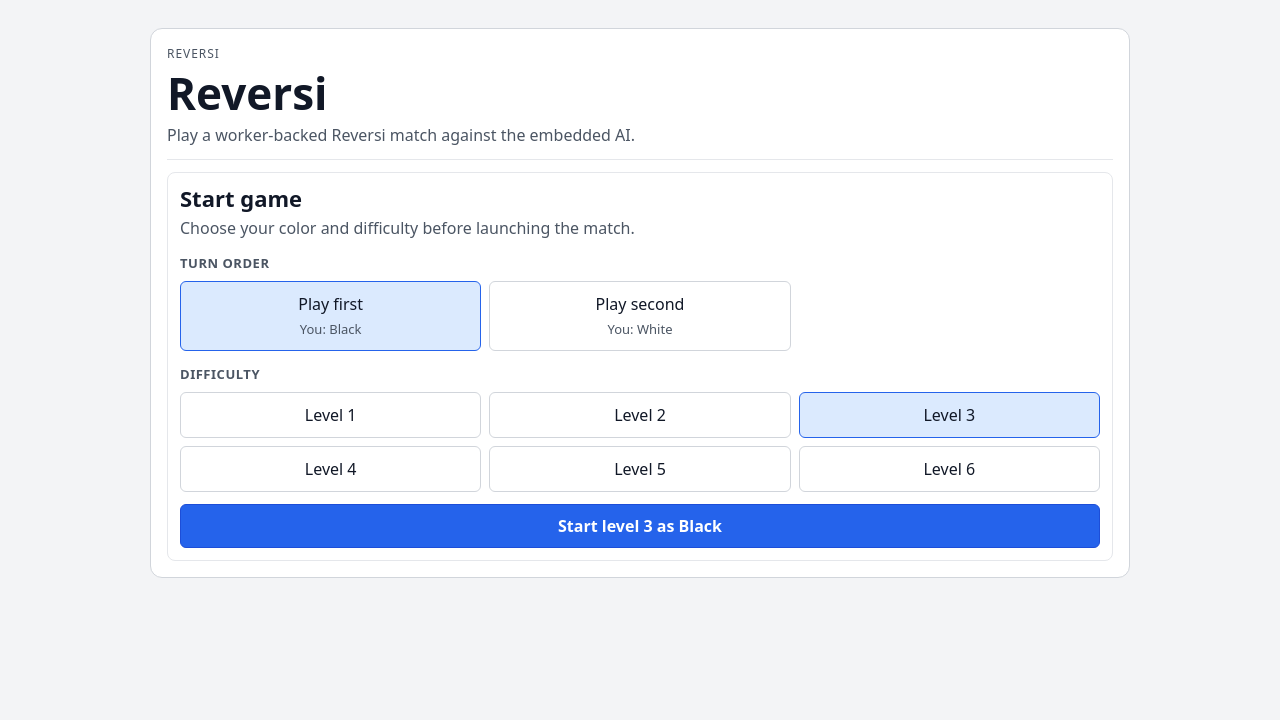
Test: App › shows pass guidance when the turn returns to the player without an AI move
Click the button "Start level 3 as Black" at {"x": 640, "y": 526}, box [180, 504, 1100, 548]
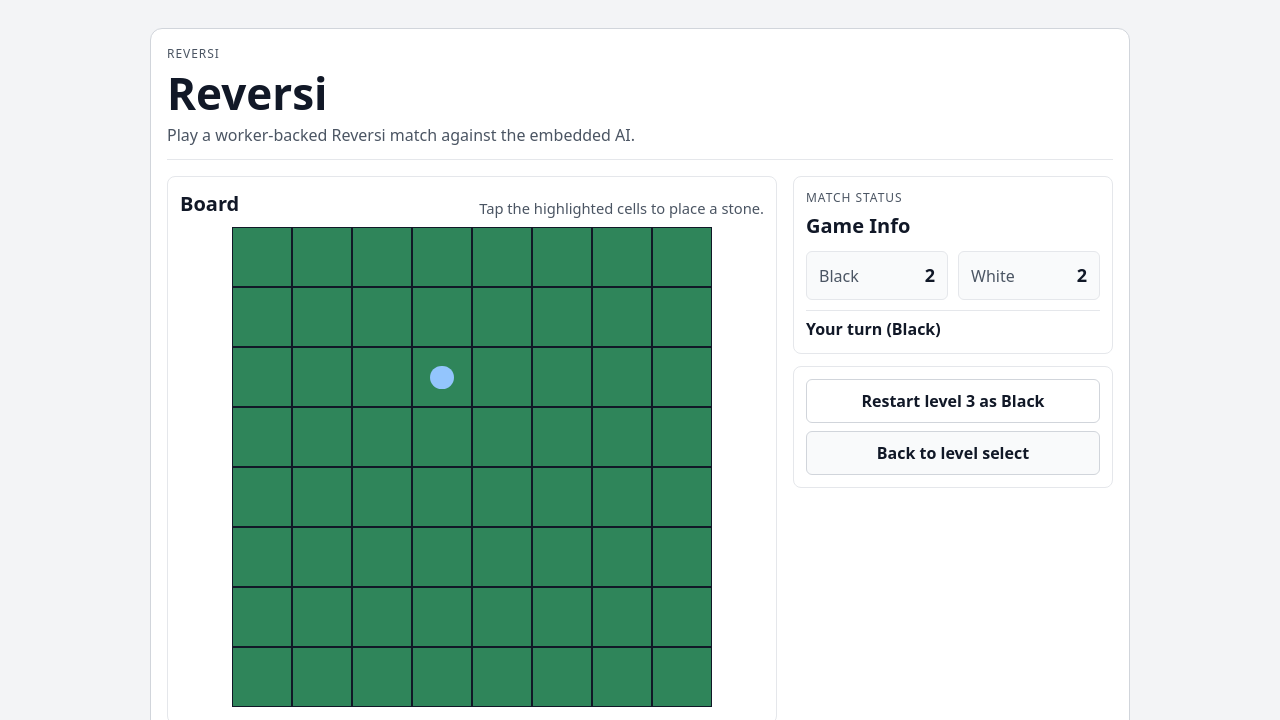
Click the button named "Cell 3-4 legal move" at {"x": 442, "y": 377}, box [412, 347, 472, 407]
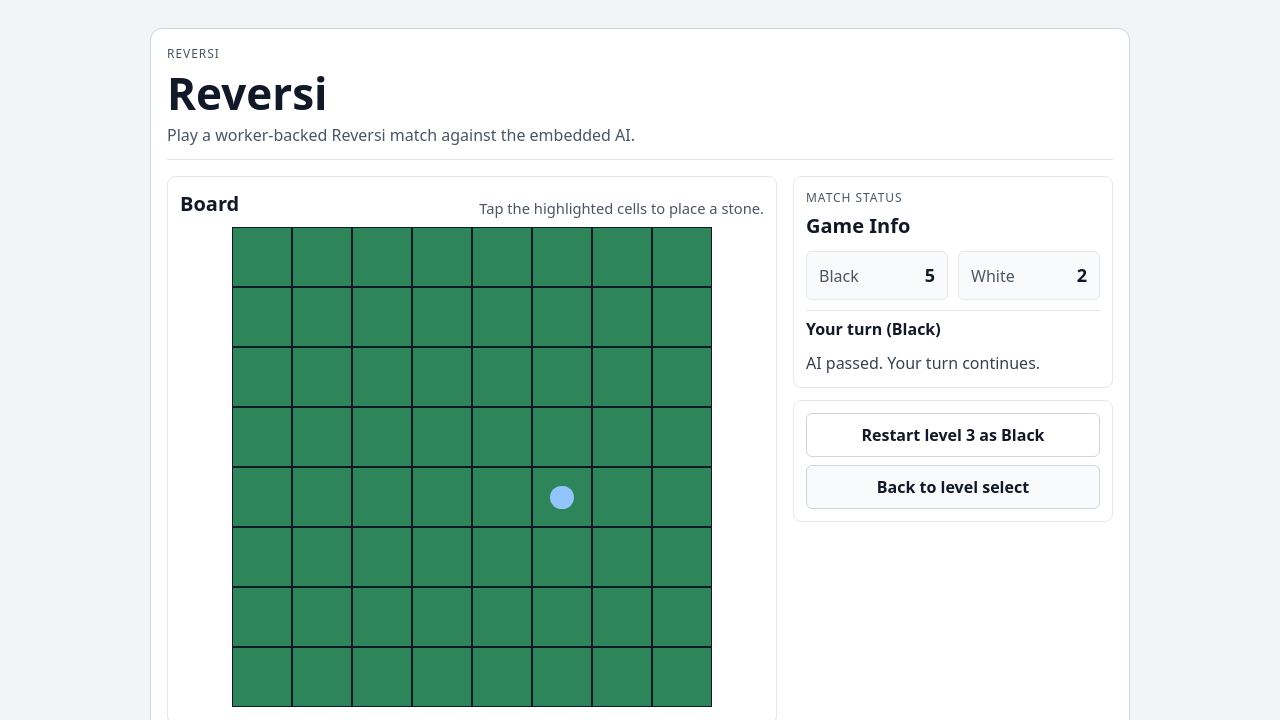
Expected: the text "AI passed. Your turn continues." is shown, [806, 352, 1040, 374]
Expected: the button named "Cell 5-6 legal move" is shown, [532, 467, 592, 527]
